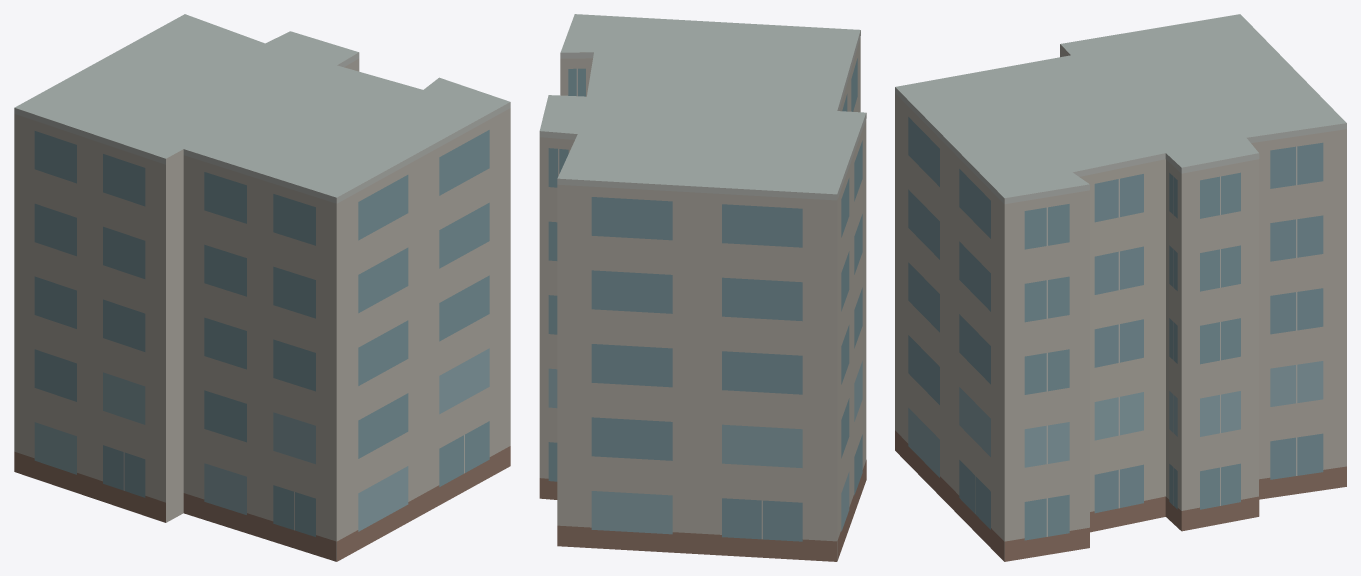
File: survey-upis-32860453.glb
3 views of the same model, side by side, from view 1: azimuth 30°, elevation 25°; view 2: azimuth 150°, elevation 25°; view 3: azimuth 270°, elevation 25° (orthographic).
Parts seen in each view (by area): view 1: survey-upis-32860453.tmp; view 2: survey-upis-32860453.tmp; view 3: survey-upis-32860453.tmp.
Boxes of the visible parts, bbox=[...] form: survey-upis-32860453.tmp: bbox=[14, 14, 510, 561]; survey-upis-32860453.tmp: bbox=[539, 14, 866, 561]; survey-upis-32860453.tmp: bbox=[895, 14, 1346, 561].
Size of the model in its own units: 15.99 by 14.7 by 16.56.
